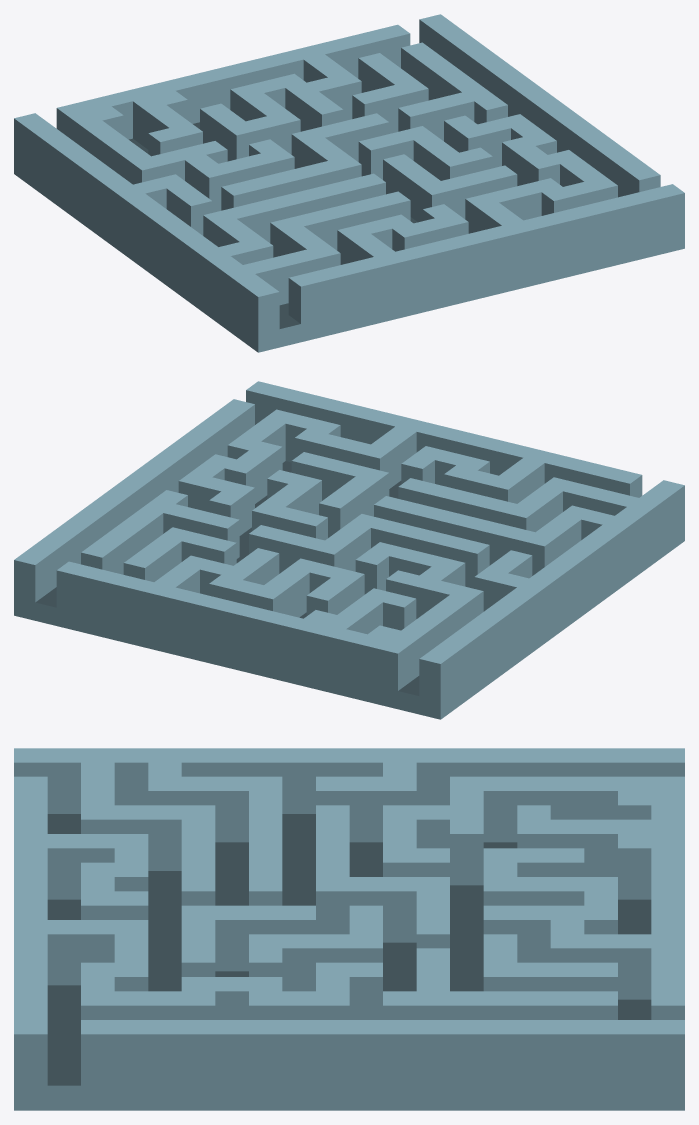
Rendered from maze.fbx.
3 views of the same model, one above another, from view 1: azimuth 30°, elevation 25°; view 2: azimuth 150°, elevation 25°; view 3: azimuth 270°, elevation 25° (orthographic). The views are drawn at different scales.
Parts seen in each view (by area): view 1: pCube1; view 2: pCube1; view 3: pCube1.
Part boxes in pixels (<box>): pCube1: <box>14,14,684,352</box>; pCube1: <box>14,381,684,719</box>; pCube1: <box>14,748,684,1110</box>.
Bounding box in the file's own units: 23.91 × 2.98 × 23.71.
